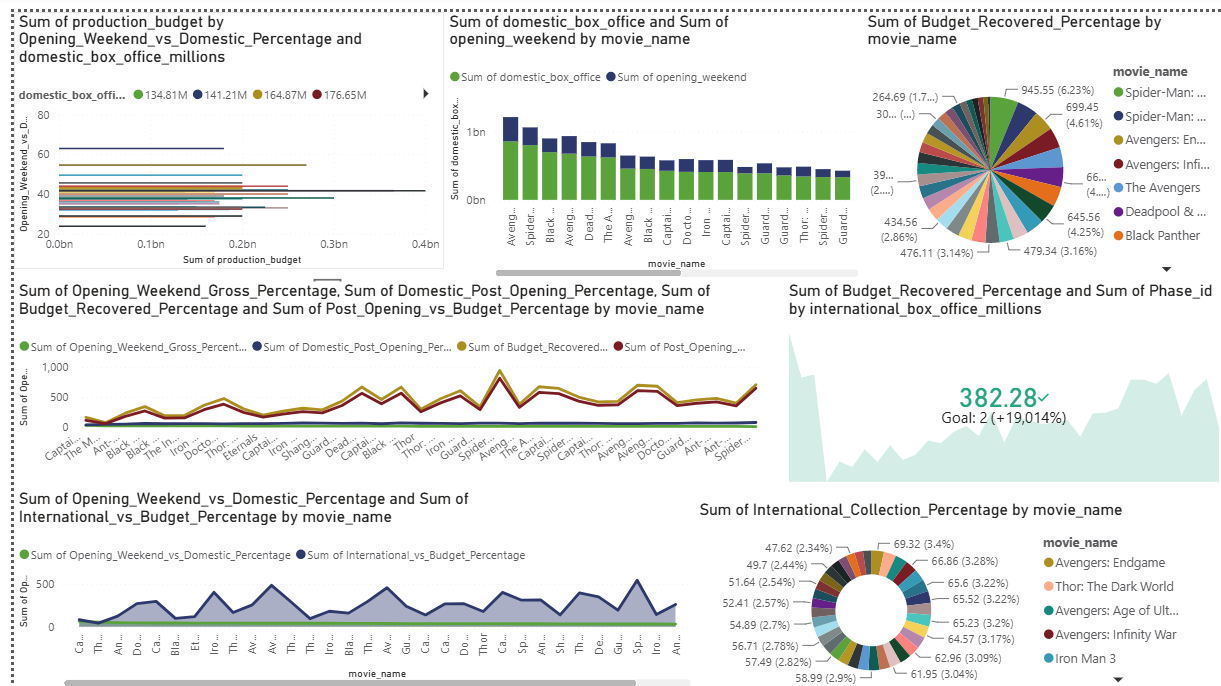

The dashboard page shown, as its layout file describes it:
{"tool":"powerbi","page":{"name":"Visualizations","canvas":[1280,720],"ordinal":0},"visuals":[{"type":"barChart","fields":{"Category":["Marvel Heros.Opening_Weekend_vs_Domestic_Percentage"],"Y":["Sum(Marvel Heros.production_budget)"],"Series":["Marvel Heros.domestic_box_office_millions"]},"box":[0,0,455.2,273.1],"z":0},{"type":"columnChart","fields":{"Y":["Sum(Marvel Heros.domestic_box_office)","Sum(Marvel Heros.opening_weekend)"],"Category":["Marvel Heros.movie_name"]},"box":[455.2,0,442.9,285.4],"z":1000},{"type":"lineChart","fields":{"Y":["Sum(Marvel Heros.Opening_Weekend_Gross_Percentage)","Sum(Marvel Heros.Domestic_Post_Opening_Percentage)","Sum(Marvel Heros.Budget_Recovered_Percentage)","Sum(Marvel Heros.Post_Opening_vs_Budget_Percentage)"],"Category":["Marvel Heros.movie_name"]},"box":[0,285.4,798.3,203.1],"z":2000},{"type":"areaChart","fields":{"Category":["Marvel Heros.movie_name"],"Y":["Sum(Marvel Heros.Opening_Weekend_vs_Domestic_Percentage)","Sum(Marvel Heros.International_vs_Budget_Percentage)"]},"box":[0,505.9,721.3,213.6],"z":3000},{"type":"pieChart","fields":{"Y":["Sum(Marvel Heros.Budget_Recovered_Percentage)"],"Category":["Marvel Heros.movie_name"]},"box":[898.1,0,381.6,285.4],"z":3001},{"type":"donutChart","fields":{"Y":["Sum(Marvel Heros.International_Collection_Percentage)"],"Category":["Marvel Heros.movie_name"]},"box":[721.3,516.4,530.4,203.1],"z":3002},{"type":"kpi","fields":{"Indicator":["Sum(Marvel Heros.Budget_Recovered_Percentage)"],"Goal":["Sum(Marvel Heros.Phase_id)"],"TrendLine":["Marvel Heros.international_box_office_millions"]},"box":[814,285.4,465.7,217.1],"z":3003}]}

Visuals, with their boxes in screenshot pixels (x1, y1, x2, y2), scaled from the page's 1280x720 canvas onto the 1221x686 screenshot:
barChart - Marvel Heros.Opening_Weekend_vs_Domestic_Percentage x Sum(Marvel Heros.production_budget): (x1=0, y1=0, x2=434, y2=260)
columnChart - Sum(Marvel Heros.domestic_box_office) x Sum(Marvel Heros.opening_weekend): (x1=434, y1=0, x2=857, y2=272)
lineChart - Sum(Marvel Heros.Opening_Weekend_Gross_Percentage) x Sum(Marvel Heros.Domestic_Post_Opening_Percentage): (x1=0, y1=272, x2=762, y2=465)
areaChart - Marvel Heros.movie_name x Sum(Marvel Heros.Opening_Weekend_vs_Domestic_Percentage): (x1=0, y1=482, x2=688, y2=685)
pieChart - Sum(Marvel Heros.Budget_Recovered_Percentage) x Marvel Heros.movie_name: (x1=857, y1=0, x2=1220, y2=272)
donutChart - Sum(Marvel Heros.International_Collection_Percentage) x Marvel Heros.movie_name: (x1=688, y1=492, x2=1194, y2=685)
kpi - Sum(Marvel Heros.Budget_Recovered_Percentage) x Sum(Marvel Heros.Phase_id): (x1=776, y1=272, x2=1220, y2=479)
